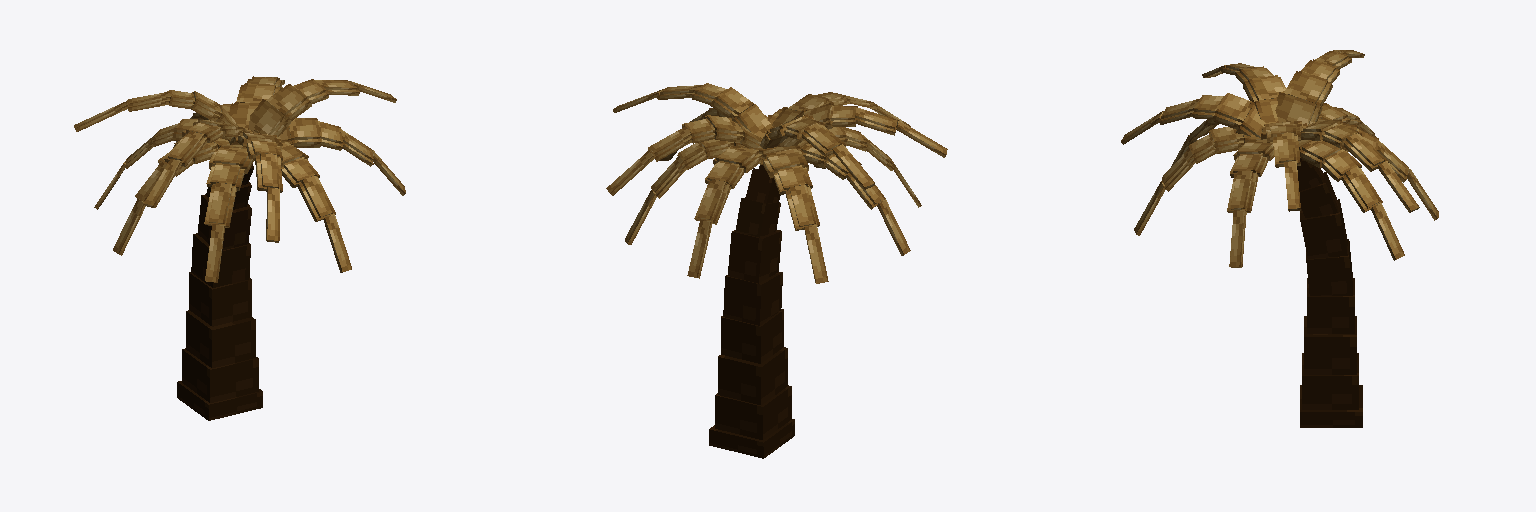
3 views of the same model, side by side, from view 1: azimuth 30°, elevation 25°; view 2: azimuth 150°, elevation 25°; view 3: azimuth 270°, elevation 25° (orthographic).
Parts seen in each view (by area): view 1: cube; view 2: cube; view 3: cube.
Boxes of the visible parts, x1,y1,x2,y2 form: cube: [74, 76, 405, 420]; cube: [606, 83, 947, 458]; cube: [1121, 50, 1438, 427].
Bounding box in the file's own units: 1.99 × 2.14 × 1.89.
1 materials, 1 textured.